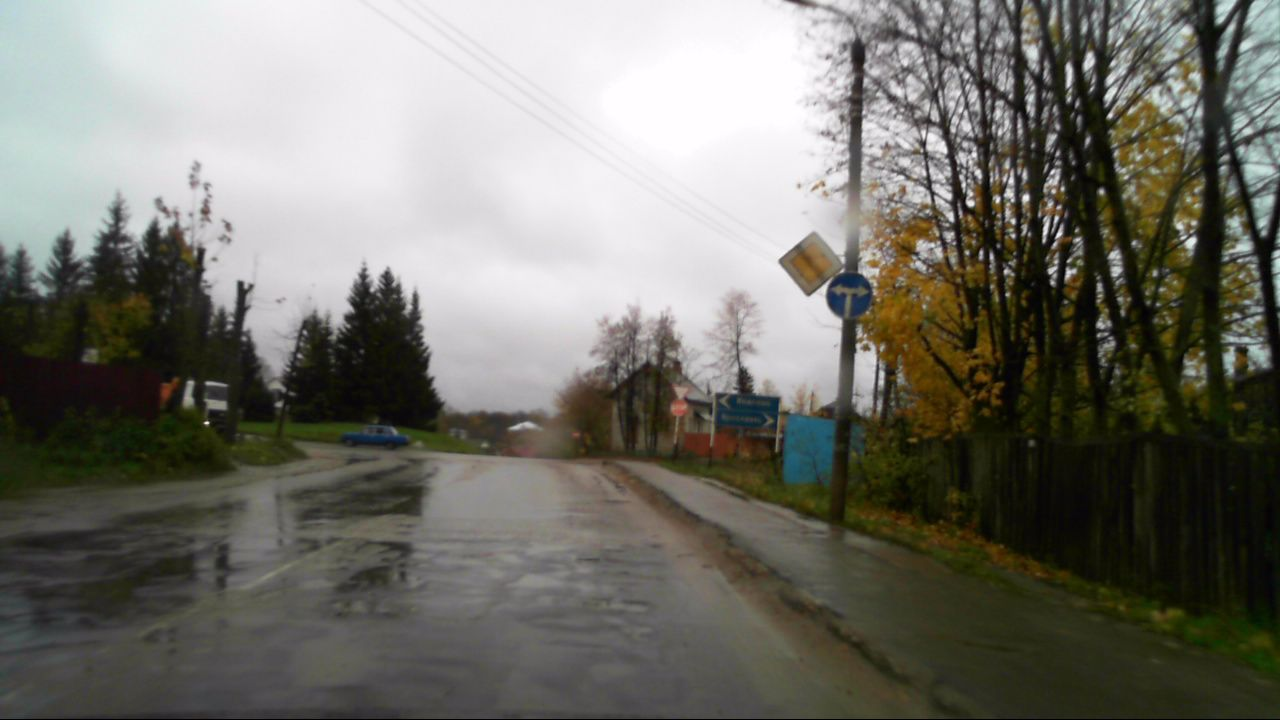main road: (778, 231, 844, 296)
